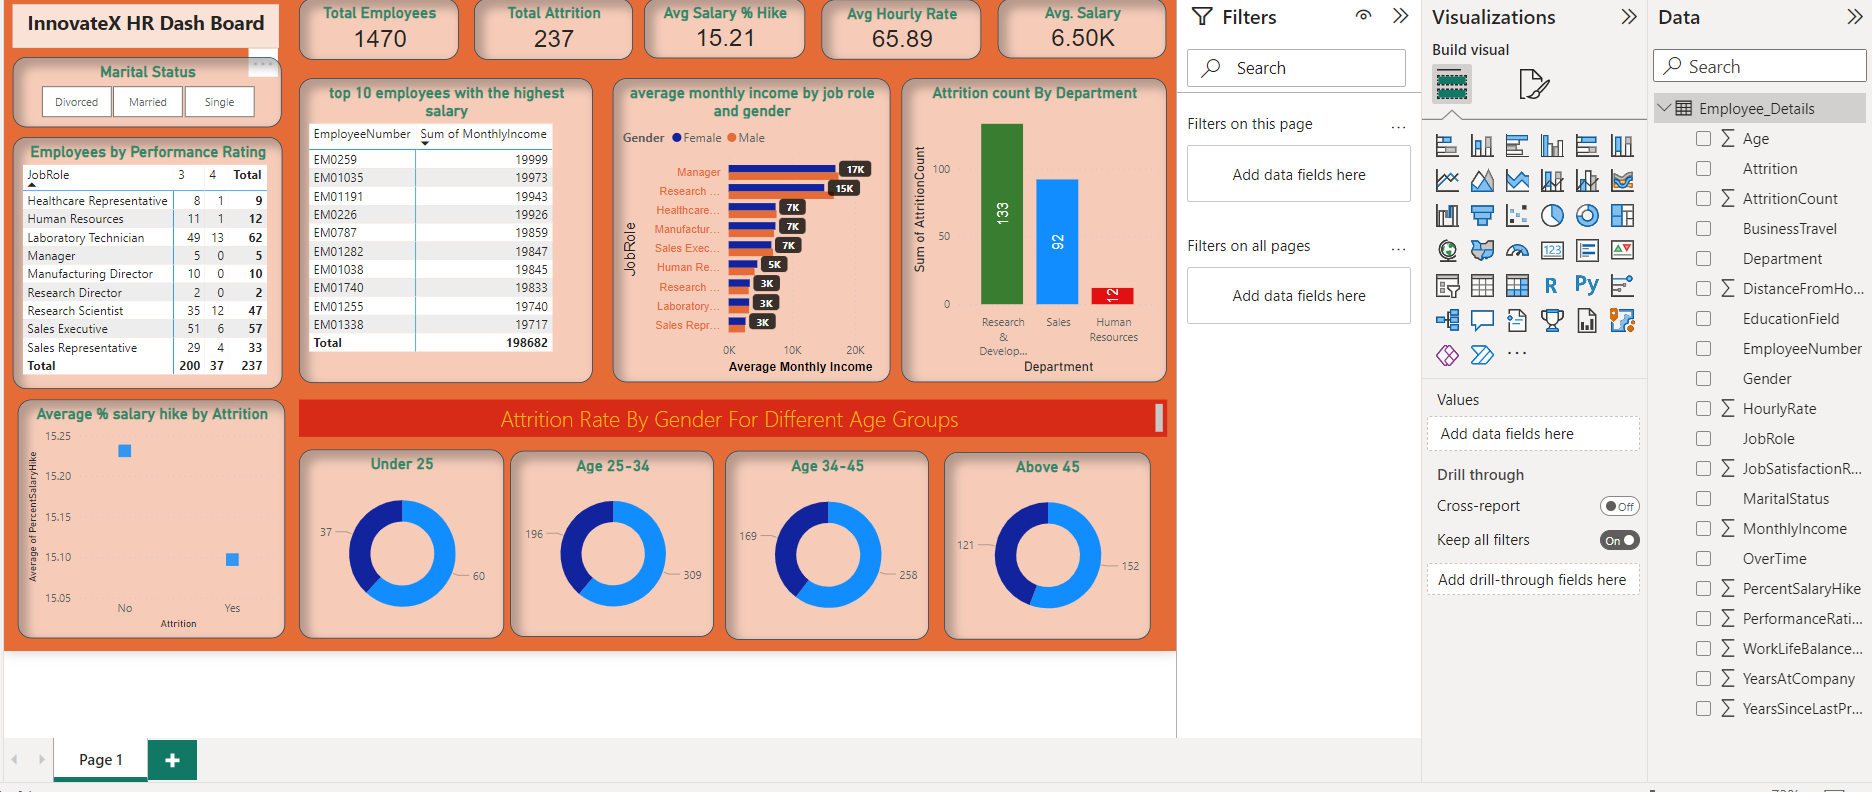

The dashboard page shown, as its layout file describes it:
{"tool":"powerbi","page":{"name":"Page 1","canvas":[1280,720],"ordinal":0},"visuals":[{"type":"textbox","box":[9.6,13.3,290.7,47],"z":0},{"type":"card","title":"Total Attrition","fields":{"Values":["Sum(Employee_Details.AttritionCount)"]},"box":[513.2,6.8,173.3,66.9],"z":1000},{"type":"card","title":"Total Employees","fields":{"Values":["CountNonNull(Employee_Details.EmployeeNumber)"]},"box":[322.1,6.8,174.7,66.9],"z":2000},{"type":"columnChart","title":"Attrition count By Department","fields":{"Category":["Employee_Details.Department"],"Y":["Sum(Employee_Details.AttritionCount)"]},"box":[980,94.2,289.4,331.7],"z":3000},{"type":"pivotTable","title":"Employees by Performance Rating","fields":{"Values":["Sum(Employee_Details.AttritionCount)"],"Columns":["Employee_Details.PerformanceRating"],"Rows":["Employee_Details.JobRole"]},"box":[9.6,158.3,294.8,267.5],"z":4000},{"type":"clusteredBarChart","title":" average monthly income by job role and gender","fields":{"Category":["Employee_Details.JobRole"],"Y":["Avg(Employee_Details.MonthlyIncome)"],"Series":["Employee_Details.Gender"]},"box":[664.7,94.2,303,331.7],"z":5000},{"type":"scatterChart","title":"Average % salary hike by Attrition","fields":{"X":["Employee_Details.Attrition"],"Y":["Avg(Employee_Details.PercentSalaryHike)"]},"box":[15,445,292.1,260.7],"z":6000},{"type":"pivotTable","title":"top 10 employees with the highest salary","fields":{"Rows":["Employee_Details.EmployeeNumber"],"Values":["Sum(Employee_Details.MonthlyIncome)"]},"box":[322,93.6,320.8,332.9],"z":7000},{"type":"slicer","title":"Marital Status","fields":{"Values":["Employee_Details.MaritalStatus"]},"box":[9.6,71.2,293.5,77.2],"z":8000},{"type":"card","title":"Avg Hourly Rate","fields":{"Values":["Avg(Employee_Details.HourlyRate)"]},"box":[892.6,8.2,174.7,65.5],"z":9000},{"type":"card","title":"Avg Salary % Hike","fields":{"Values":["Avg(Employee_Details.PercentSalaryHike)"]},"box":[698.8,6.8,176.1,65.5],"z":10000},{"type":"card","title":"Avg. Salary","fields":{"Values":["Avg(Employee_Details.MonthlyIncome)"]},"box":[1085.1,6.8,184.3,65.5],"z":11000},{"type":"textbox","box":[322,445,947.9,41],"z":12000},{"type":"donutChart","title":"Under 25","fields":{"Category":["Employee_Details.Gender"],"Y":["CountNonNull(Employee_Details.Attrition)"]},"box":[322.1,499.6,223.8,206.1],"z":13000},{"type":"donutChart","title":"Age 34-45","fields":{"Category":["Employee_Details.Gender"],"Y":["CountNonNull(Employee_Details.Attrition)"]},"box":[787.5,500.9,222.5,206.1],"z":14000},{"type":"donutChart","title":"Age 25-34","fields":{"Category":["Employee_Details.Gender"],"Y":["CountNonNull(Employee_Details.Attrition)"]},"box":[552.8,500.9,222.5,203.4],"z":15000},{"type":"donutChart","title":"Above 45","fields":{"Category":["Employee_Details.Gender"],"Y":["CountNonNull(Employee_Details.Attrition)"]},"box":[1026.4,502.3,225.2,204.7],"z":16000}]}

Visuals, with their boxes on the page's 1280x720 design canvas (x1, y1, x2, y2). These are canvas units, not pixel positions in the 1872x792 screenshot, which may show the page scaled, cropped or inside an application window:
textbox: locate(10, 13, 300, 60)
"Total Attrition" card: locate(513, 7, 686, 74)
"Total Employees" card: locate(322, 7, 497, 74)
"Attrition count By Department" columnChart: locate(980, 94, 1269, 426)
"Employees by Performance Rating" pivotTable: locate(10, 158, 304, 426)
" average monthly income by job role and gender" clusteredBarChart: locate(665, 94, 968, 426)
"Average % salary hike by Attrition" scatterChart: locate(15, 445, 307, 706)
"top 10 employees with the highest salary" pivotTable: locate(322, 94, 643, 426)
"Marital Status" slicer: locate(10, 71, 303, 148)
"Avg Hourly Rate" card: locate(893, 8, 1067, 74)
"Avg Salary % Hike" card: locate(699, 7, 875, 72)
"Avg. Salary" card: locate(1085, 7, 1269, 72)
textbox: locate(322, 445, 1270, 486)
"Under 25" donutChart: locate(322, 500, 546, 706)
"Age 34-45" donutChart: locate(788, 501, 1010, 707)
"Age 25-34" donutChart: locate(553, 501, 775, 704)
"Above 45" donutChart: locate(1026, 502, 1252, 707)
